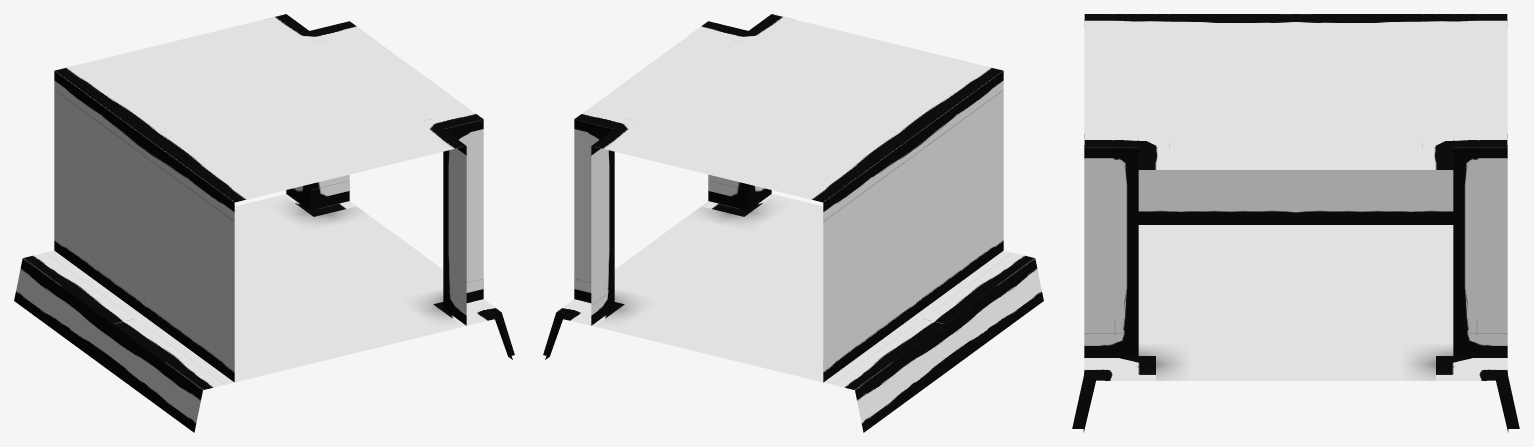
File: 1 Side Building.fbx
3 views of the same model, side by side, from view 1: azimuth 30°, elevation 25°; view 2: azimuth 150°, elevation 25°; view 3: azimuth 270°, elevation 25° (orthographic). The views are drawn at different scales.
Parts seen in each view (by area): view 1: 1 Side, 1 Side Ground; view 2: 1 Side, 1 Side Ground; view 3: 1 Side, 1 Side Ground.
Part boxes in pixels (x1,y1,x2,y2): 1 Side: [54, 14, 483, 382]; 1 Side Ground: [14, 194, 514, 432]; 1 Side: [574, 14, 1003, 382]; 1 Side Ground: [543, 194, 1043, 432]; 1 Side: [1084, 14, 1507, 357]; 1 Side Ground: [1072, 225, 1519, 432].
Size of the model in its own units: 205 by 135 by 212.
